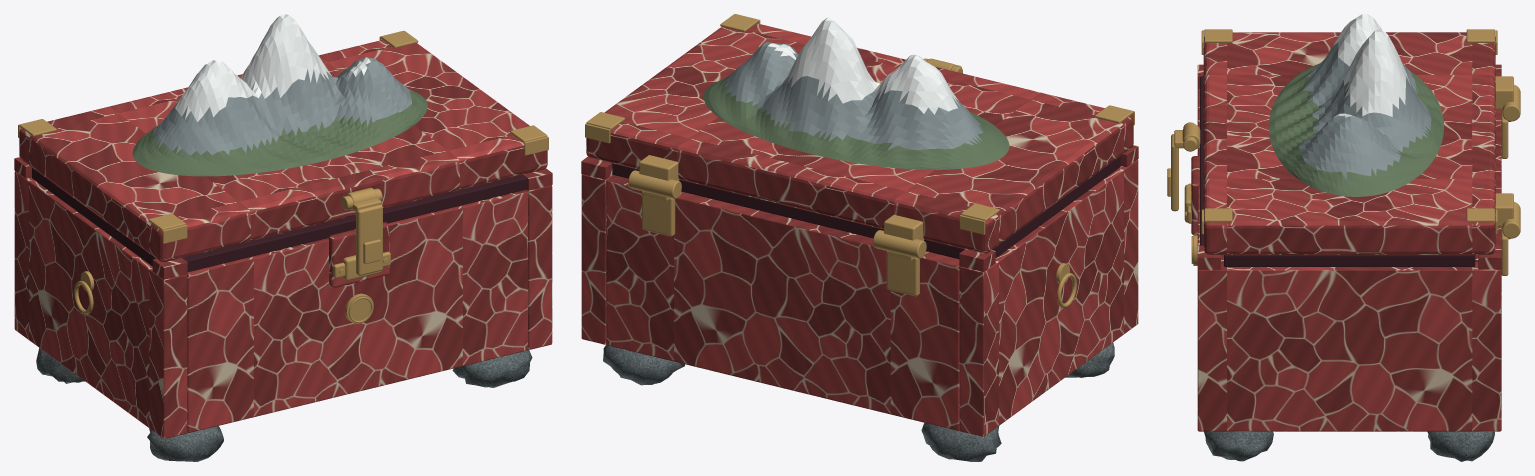
The model's file is austria.glb.
3 renders of one model, left to right at view 1: azimuth 30°, elevation 25°; view 2: azimuth 150°, elevation 25°; view 3: azimuth 270°, elevation 25°, orthographic. The views are drawn at different scales.
Visible parts, largest first — view 1: Adnet / front-rear skin, Lid / polished slab, Adnet / side skin, Terrain / Alpine crown, Mineral seam / long, Adnet / side skin.001, Granite foot, Granite foot.002, Cedar / clasp seat, Latch / lifting hasp, Mineral seam / side, Granite foot.001 (+2 smaller); view 2: Adnet / front-rear skin.001, Lid / polished slab, Adnet / side skin, Terrain / Alpine crown, Adnet / side skin.001, Mineral seam / long.001, Granite foot.001, Granite foot.003, Mineral seam / side, Hinge / fixed mount, Hinge / fixed mount.001, Hinge / fixed barrel.001 (+6 smaller); view 3: Adnet / side skin.001, Lid / polished slab, Terrain / Alpine crown, Mineral seam / side.001, Granite foot.002, Granite foot.003, Adnet / front-rear skin.001, Mineral seam / long, Cedar / clasp seat, Hinge / moving leaf, Latch / lifting hasp, Hinge / moving leaf.001 (+8 smaller).
Part boxes in pixels (x1,y1,x2,y2): Adnet / front-rear skin: (187,189,527,432); Lid / polished slab: (19,40,547,261); Adnet / side skin: (14,171,187,438); Terrain / Alpine crown: (132,14,427,176); Mineral seam / long: (182,174,527,271); Adnet / side skin.001: (526,185,552,349); Granite foot: (147,426,223,461); Granite foot.002: (452,349,532,387); Cedar / clasp seat: (328,222,389,287); Latch / lifting hasp: (356,205,382,275); Mineral seam / side: (32,168,155,266); Granite foot.001: (36,348,84,383); Adnet / front-rear skin.001: (606,175,959,430); Lid / polished slab: (586,23,1133,253); Adnet / side skin: (959,159,1138,436); Terrain / Alpine crown: (703,17,1009,169); Adnet / side skin.001: (581,174,613,344); Mineral seam / long.001: (612,163,964,258); Granite foot.001: (921,422,1001,461); Granite foot.003: (603,344,684,385); Mineral seam / side: (992,156,1120,257); Hinge / fixed mount: (886,251,919,296); Hinge / fixed mount.001: (642,191,675,236); Hinge / fixed barrel.001: (628,170,681,198); Adnet / side skin.001: (1197,262,1501,431); Lid / polished slab: (1203,32,1495,254); Terrain / Alpine crown: (1268,14,1443,196); Mineral seam / side.001: (1224,255,1475,266); Granite foot.002: (1204,431,1273,461); Granite foot.003: (1427,431,1494,461); Adnet / front-rear skin.001: (1495,109,1501,245); Mineral seam / long: (1200,76,1203,245); Cedar / clasp seat: (1191,156,1199,235); Hinge / moving leaf: (1495,76,1513,109); Latch / lifting hasp: (1171,134,1178,211); Hinge / moving leaf.001: (1495,193,1513,226).
Size of the model in its own units: 3.79 by 3.23 by 2.88.
7 materials, 2 textured.
